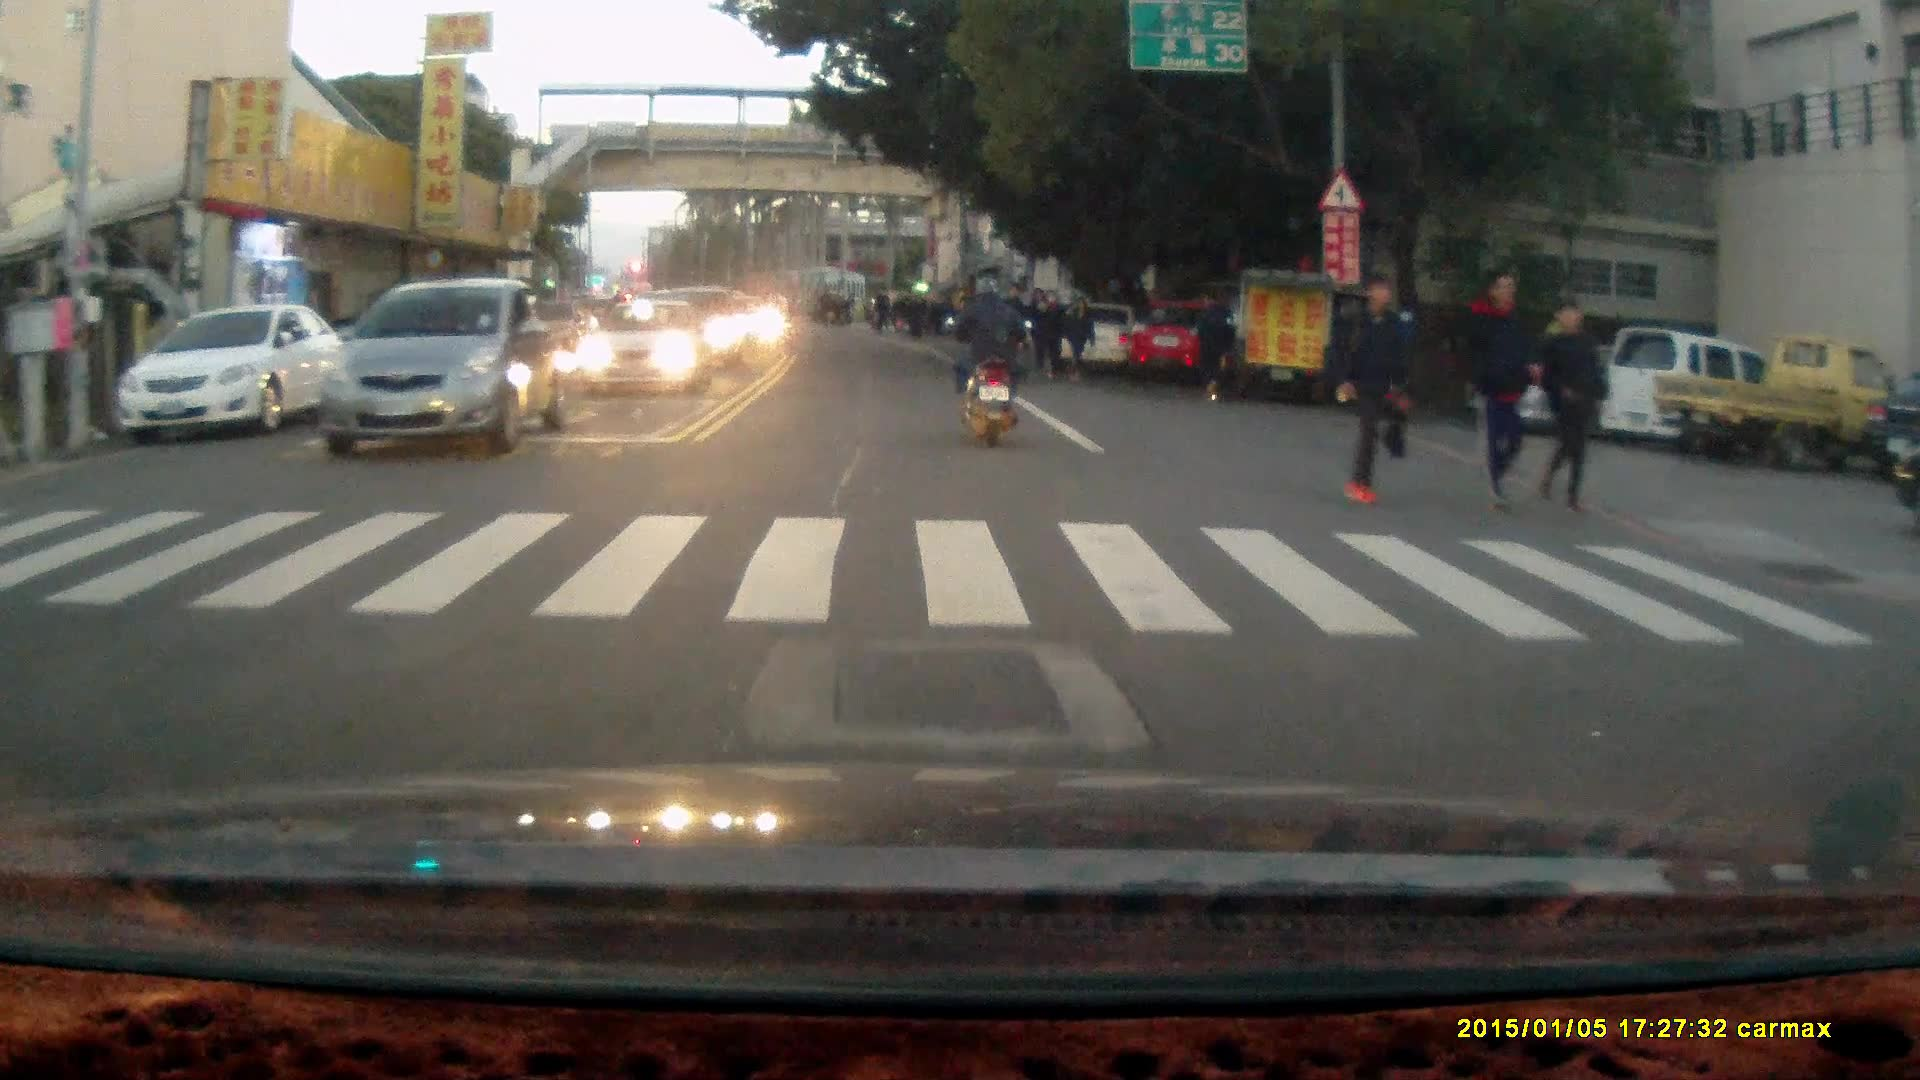pedestrian: (1462, 264, 1545, 518), (1330, 272, 1416, 505), (1532, 293, 1605, 517), (1190, 285, 1236, 406), (1024, 287, 1053, 380), (1065, 293, 1096, 379)
rider: (943, 272, 1029, 450)
vehicle: (321, 279, 572, 455), (1647, 336, 1903, 468), (114, 301, 346, 440), (575, 299, 708, 396), (1122, 298, 1243, 387)
